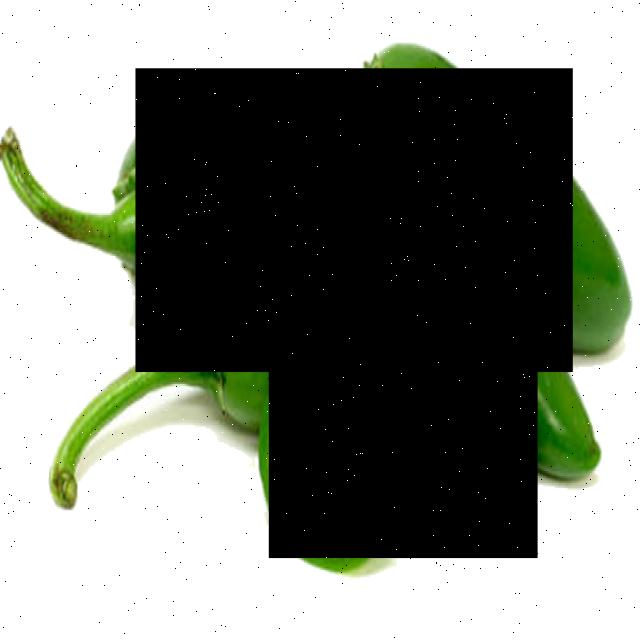Chili_Pepper: (135, 70, 572, 373), (269, 352, 538, 558)
